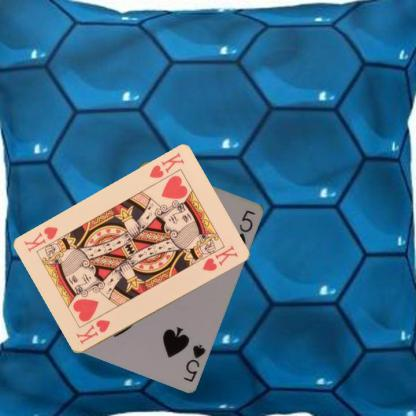5s: (181, 341, 207, 383)
Kh: (146, 150, 186, 180), (74, 317, 112, 346)
